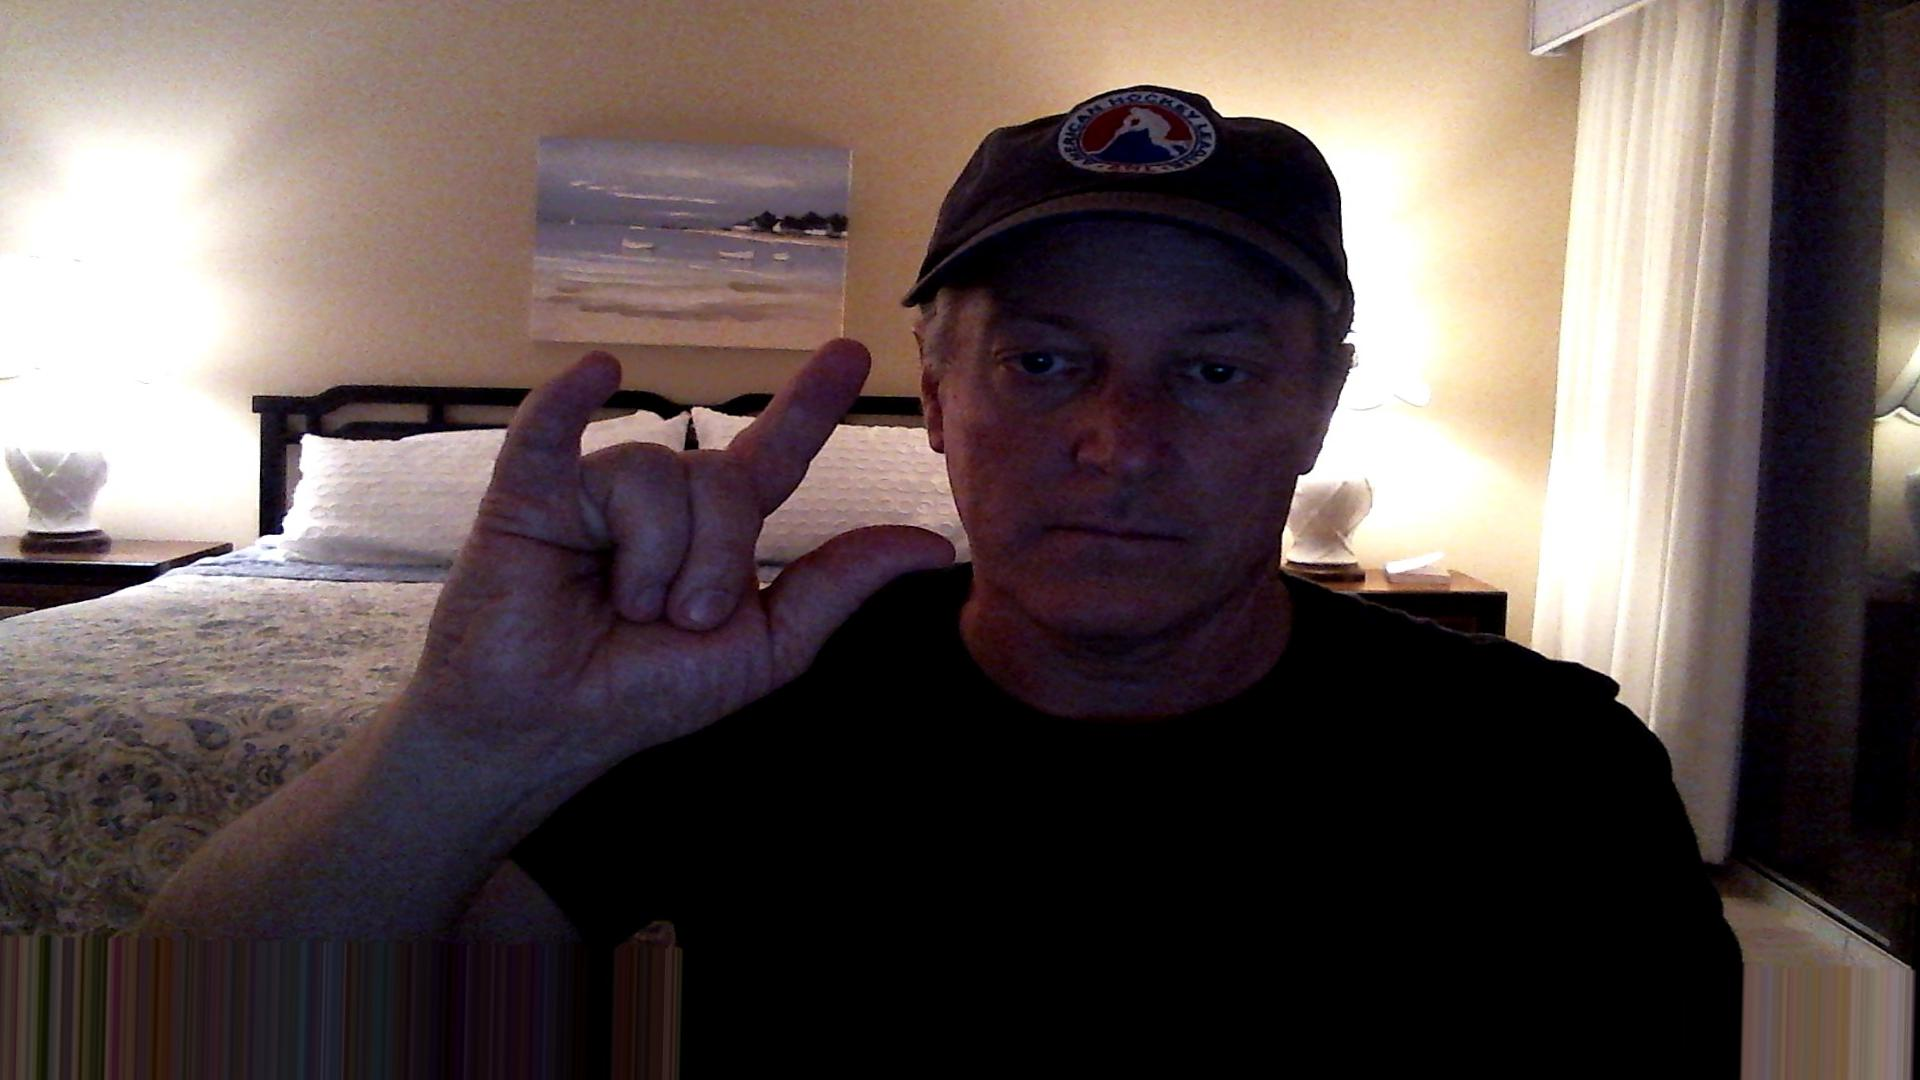I Love You: (419, 322, 957, 762)
